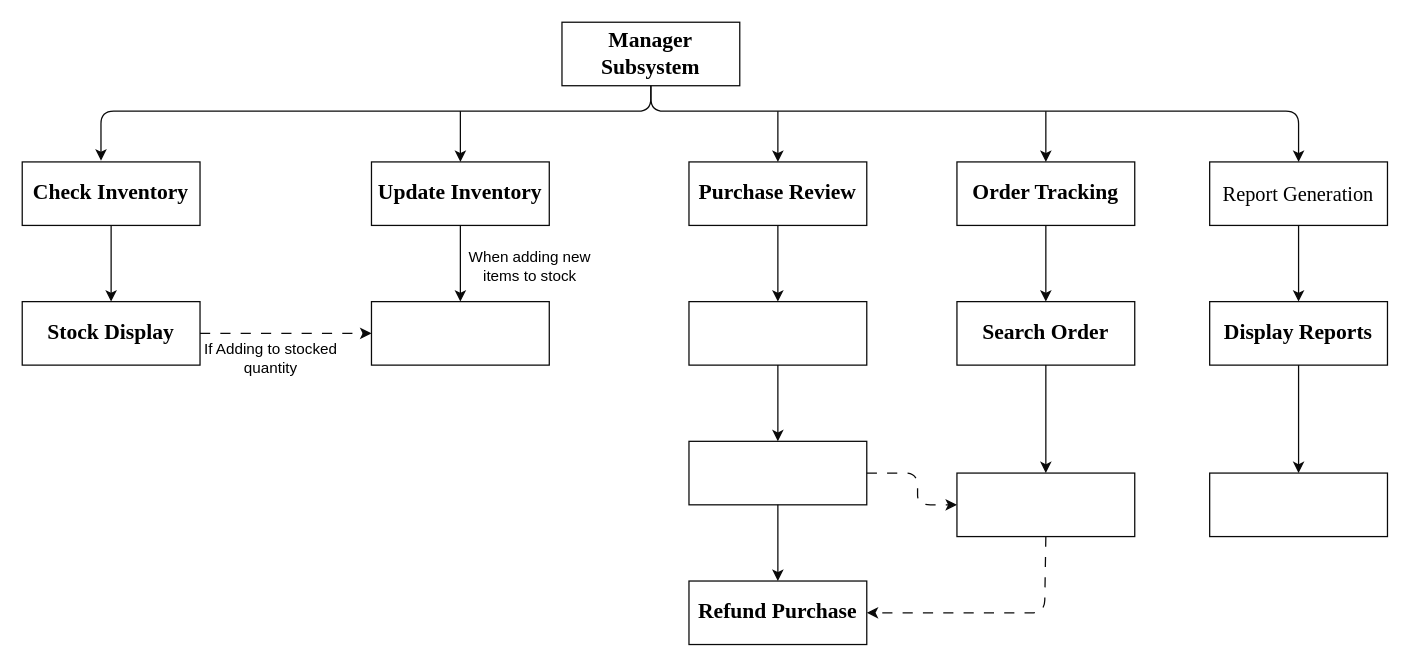
Some shapes in this 1410 by 667 pixel diagram are drawn without their labels. The centre of each missing label's shape, as x and y in pixels:
Add Stock: the point at 459,332
Get Package Current location: the point at 1045,504
Print Reprts: the point at 1297,504
Purchases Display: the point at 777,332
Review Invoice: the point at 777,472
